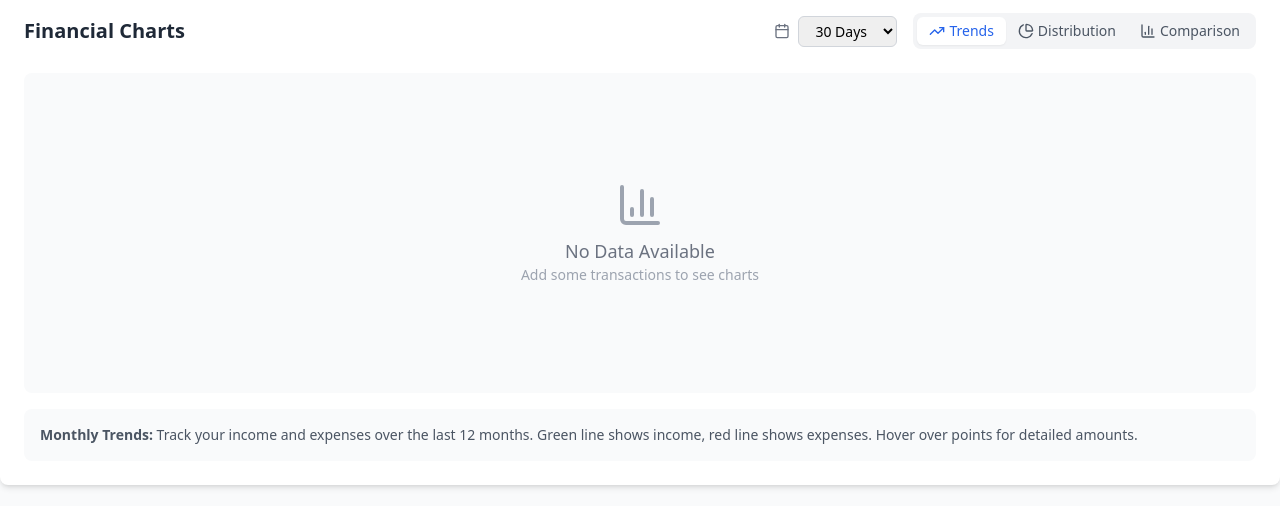
Scenario: ChartsSection › should show correct chart descriptions
The image size is (1280, 506).
Check: the text "Monthly Trends:" is shown, box [40,425,153,444]
Check: the text "Track your income and expenses over the last 12 months" is shown, box [153,425,1138,444]
# Switch to pie chart
Click the button "Distribution": (1067, 31) [1006,17,1128,45]
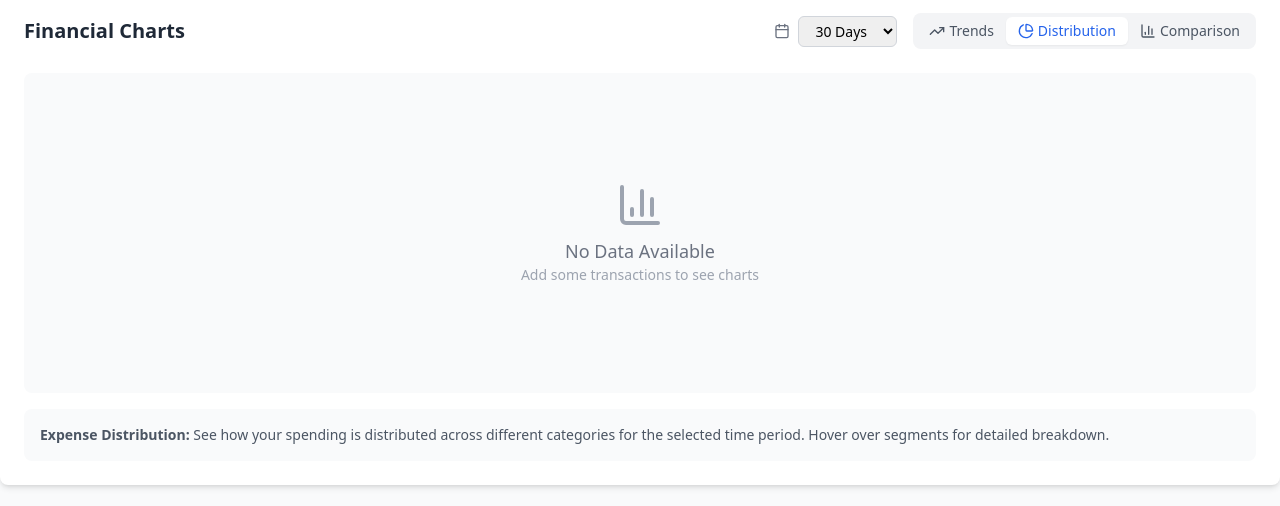
Check: the text "Expense Distribution:" is shown, box [40,425,190,444]
# Switch to bar chart
Click the button "Comparison": (1190, 31) [1128,17,1252,45]
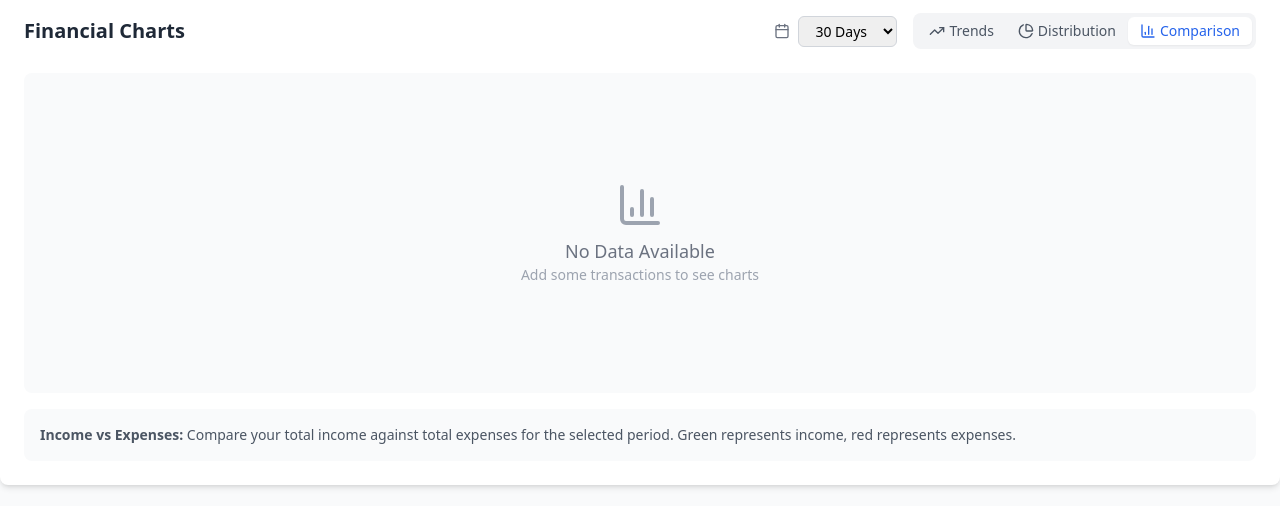
Check: the text "Income vs Expenses:" is shown, box [40,425,183,444]
